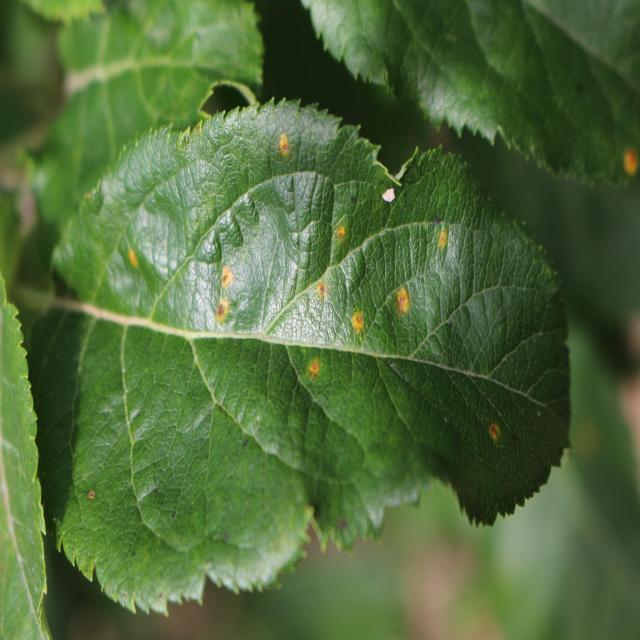Rust: (390, 269, 414, 332), (206, 298, 243, 335), (271, 126, 301, 170), (323, 214, 357, 252), (610, 145, 640, 183), (350, 301, 371, 355), (482, 412, 503, 454), (125, 242, 146, 282), (215, 254, 238, 289), (435, 224, 454, 263), (306, 353, 326, 385), (313, 278, 331, 302)
